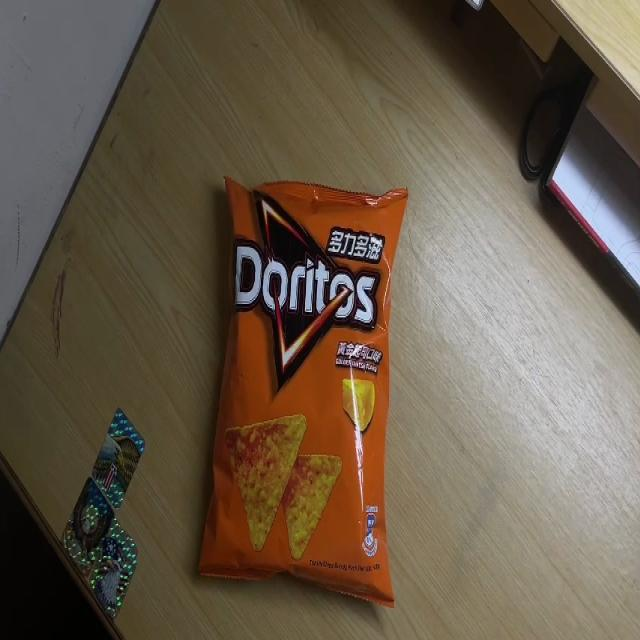Doritos: (198, 175, 410, 612)
